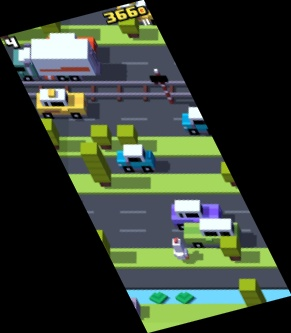car: (183, 218, 241, 247), (44, 31, 99, 61), (36, 87, 86, 119), (171, 200, 222, 229), (181, 107, 227, 135), (116, 145, 156, 173), (117, 1, 159, 27)
duck: (171, 237, 189, 261)
light off: (150, 68, 176, 105)
lilypad: (175, 290, 196, 305), (150, 290, 168, 305)
rail: (15, 78, 199, 104)
rock: (122, 298, 142, 319)
tree: (80, 143, 111, 188), (238, 278, 268, 310), (33, 118, 59, 149), (89, 230, 113, 263), (38, 12, 62, 38), (220, 162, 245, 186), (220, 236, 242, 262), (89, 125, 111, 150), (118, 125, 138, 151), (119, 12, 139, 37)
truck: (13, 38, 100, 79)
water: (123, 289, 291, 304)
